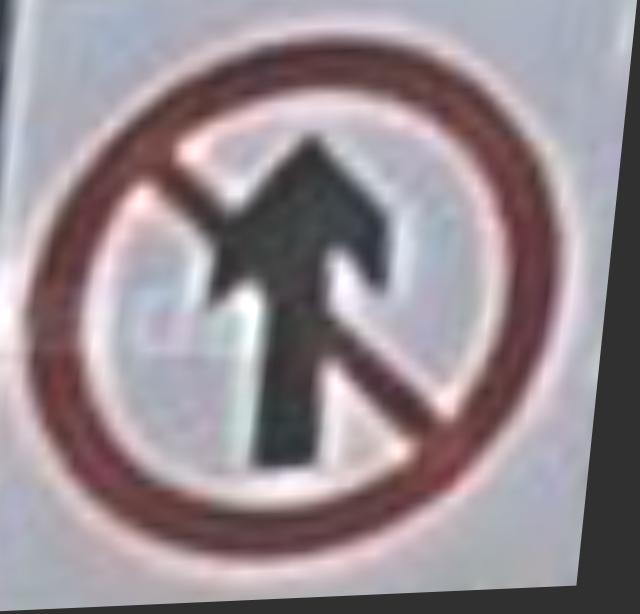not_go_straight: (11, 25, 604, 594)
